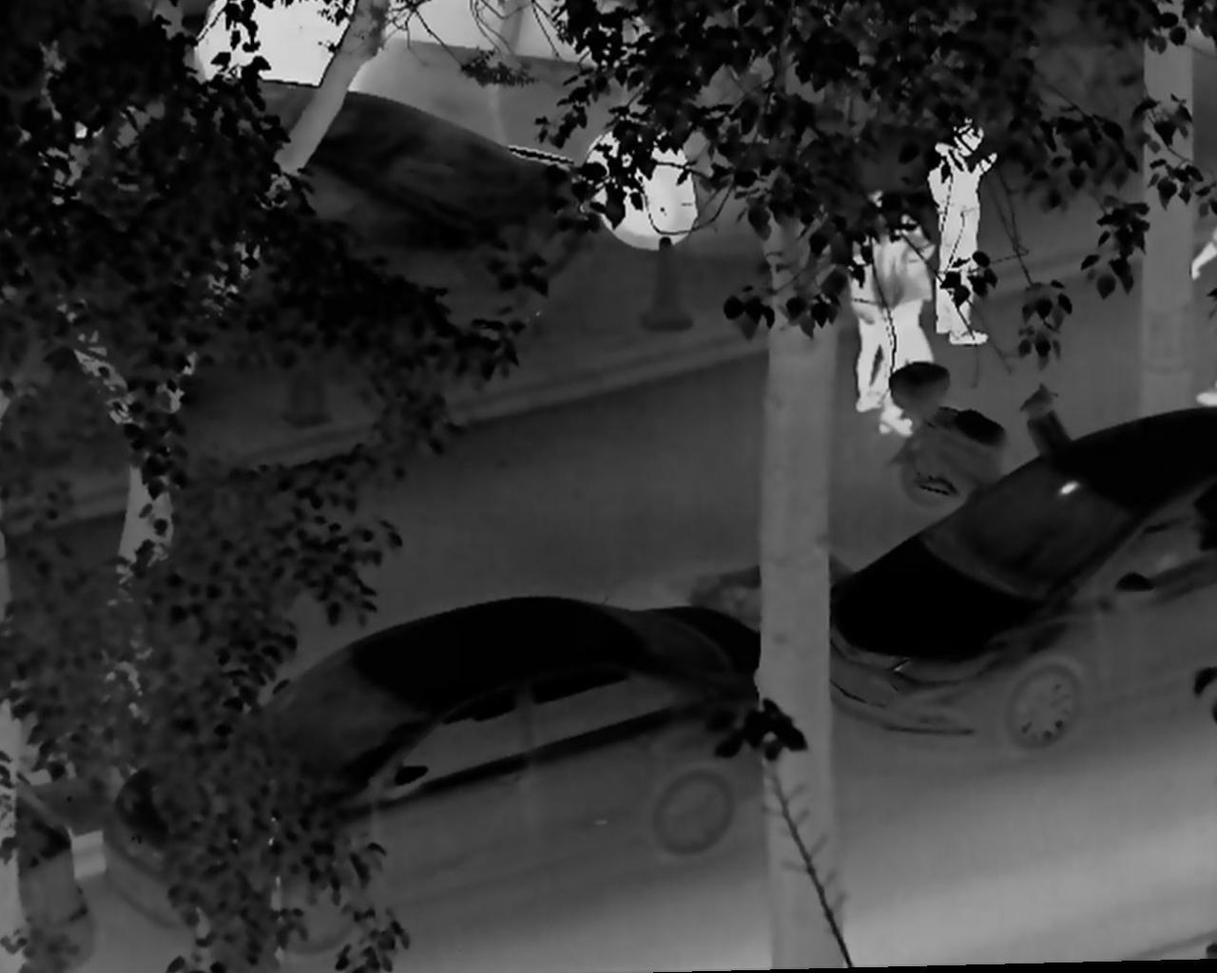person: (869, 197, 956, 443), (929, 108, 1002, 349), (844, 191, 904, 418), (1188, 180, 1217, 407)
